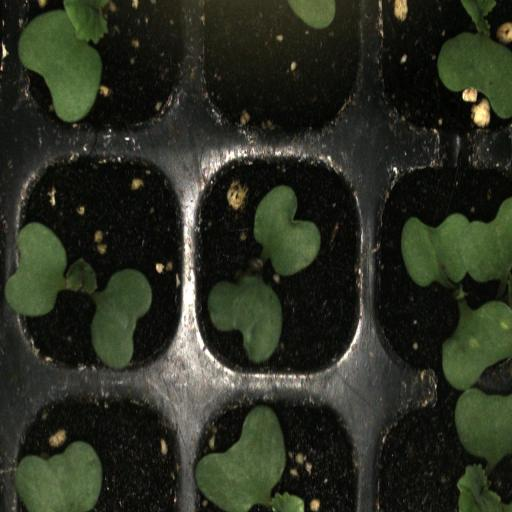seedling: (192, 140, 370, 383), (11, 144, 192, 382), (11, 0, 192, 144)
twoseedling: (371, 140, 512, 382)
